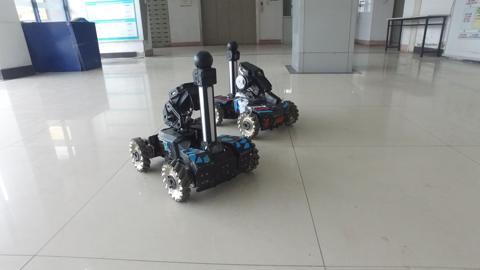chariot: (132, 47, 265, 204), (203, 42, 298, 144)
